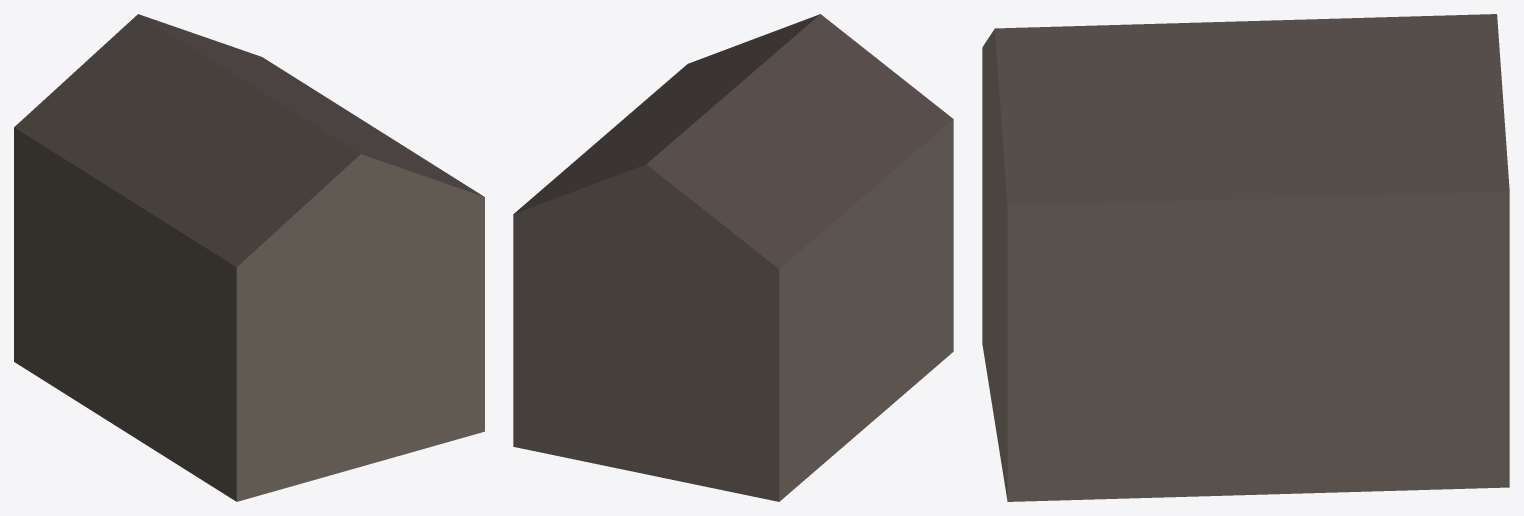
3 renders of one model, left to right at view 1: azimuth 30°, elevation 25°; view 2: azimuth 150°, elevation 25°; view 3: azimuth 270°, elevation 25°, orthographic. The views are drawn at different scales.
Visible parts, largest first — view 1: HP-w1424106458; view 2: HP-w1424106458; view 3: HP-w1424106458.
Part boxes in pixels (x1,y1,x2,y2): HP-w1424106458: [14, 14, 484, 501]; HP-w1424106458: [513, 14, 953, 501]; HP-w1424106458: [982, 14, 1509, 501].
Bounding box in the file's own units: 7.54 × 8 × 9.7.
